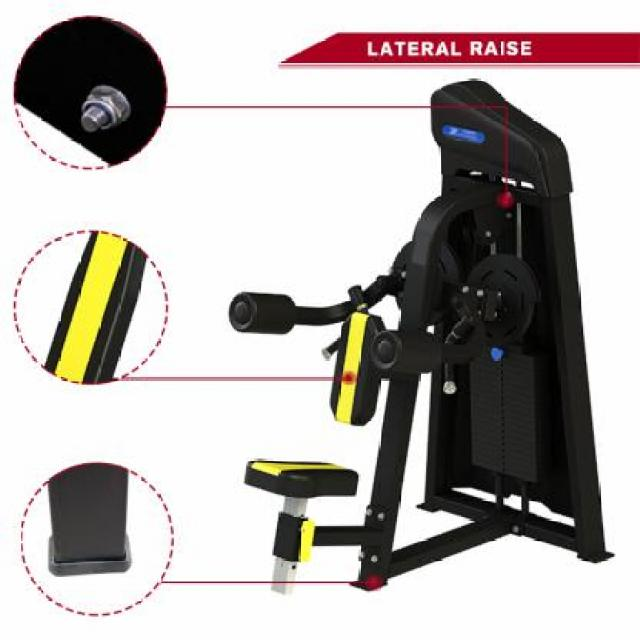lateral raises machine: (229, 78, 620, 597)
